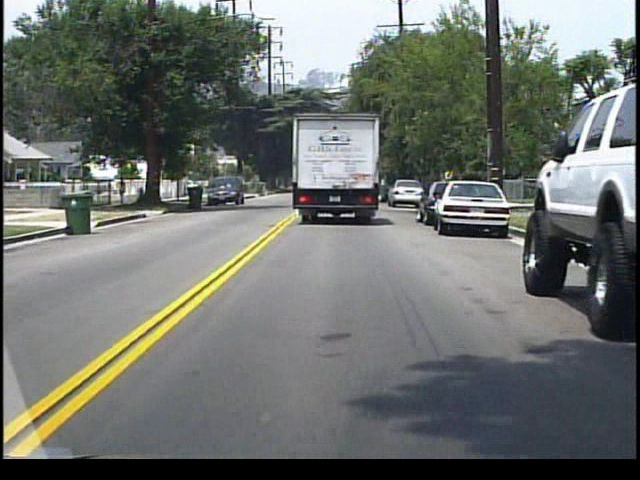person: (118, 175, 129, 207)
